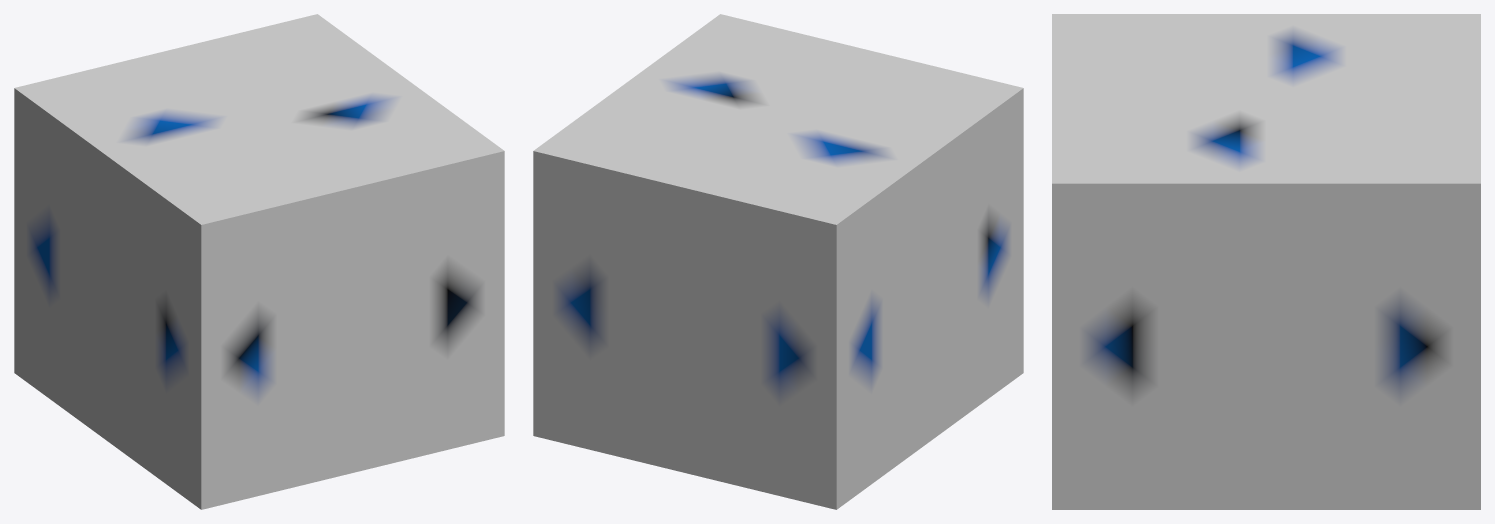
Rendered from vertex-painted-box.dae.
3 renders of one model, left to right at view 1: azimuth 30°, elevation 25°; view 2: azimuth 150°, elevation 25°; view 3: azimuth 270°, elevation 25°, orthographic. The views are drawn at different scales.
Parts seen in each view (by area): view 1: Quader001; view 2: Quader001; view 3: Quader001.
Part boxes in pixels (x1,y1,x2,y2): Quader001: (14, 14, 504, 509); Quader001: (533, 14, 1023, 509); Quader001: (1052, 14, 1480, 509).
Size of the model in its own units: 21.68 by 19.46 by 23.17.
